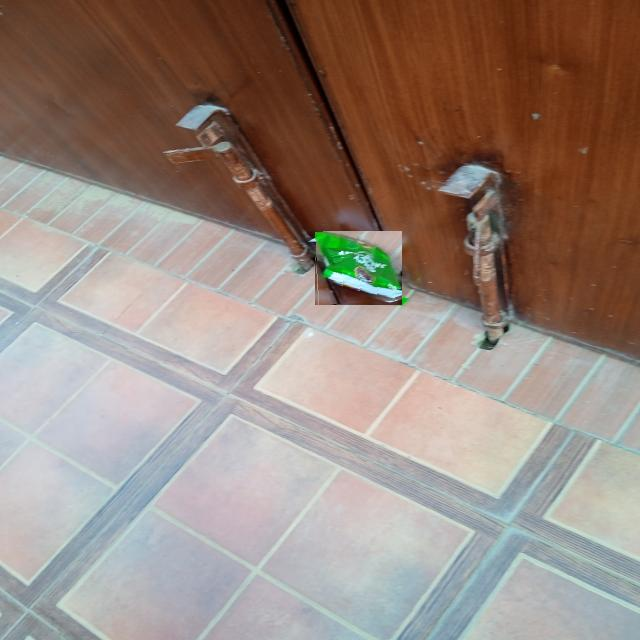Plastic: (314, 231, 402, 305)
